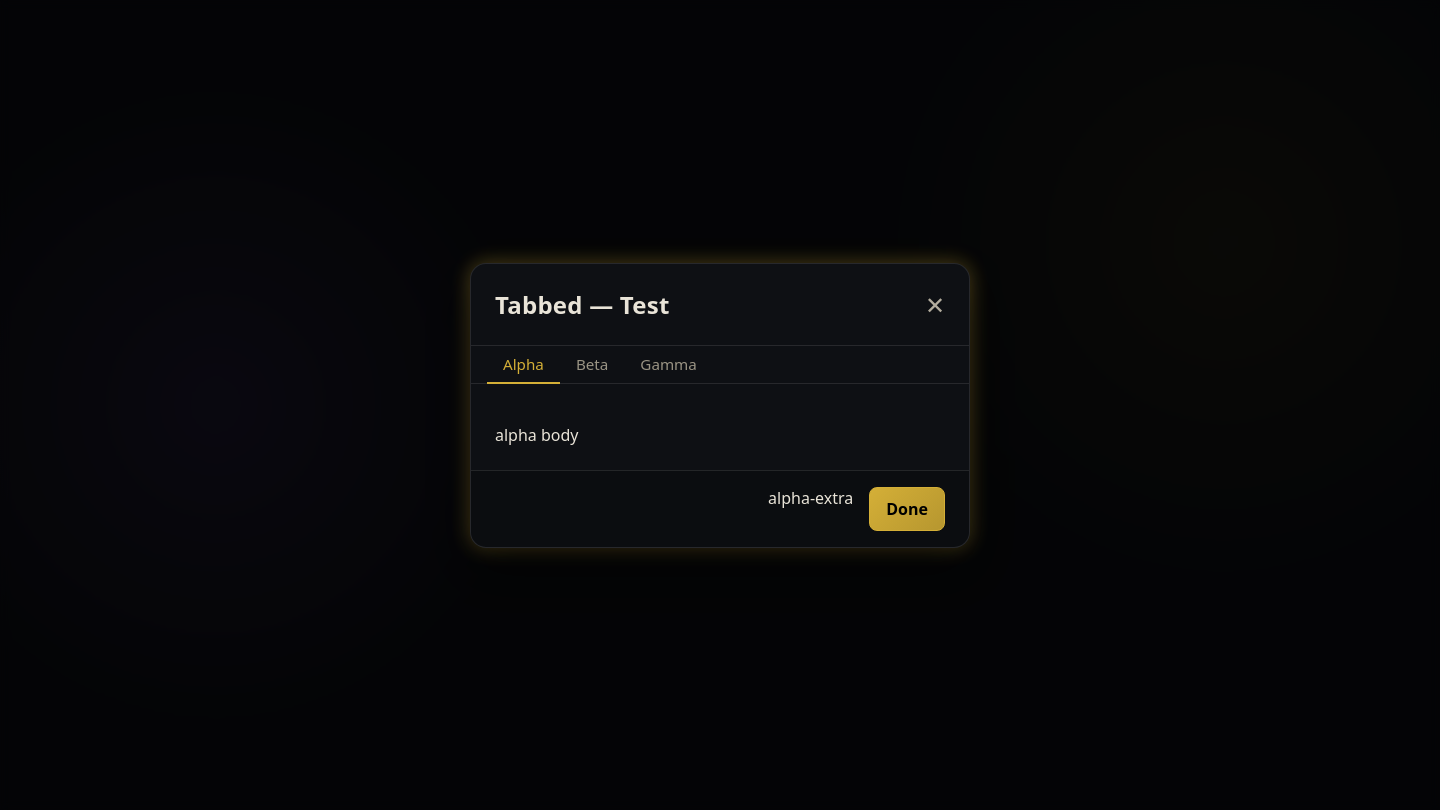
TabbedEditorShell › switching tabs mounts only the clicked tab
The image size is (1440, 810).
Click the button "Beta" at (592, 364), box [560,346,624,384]
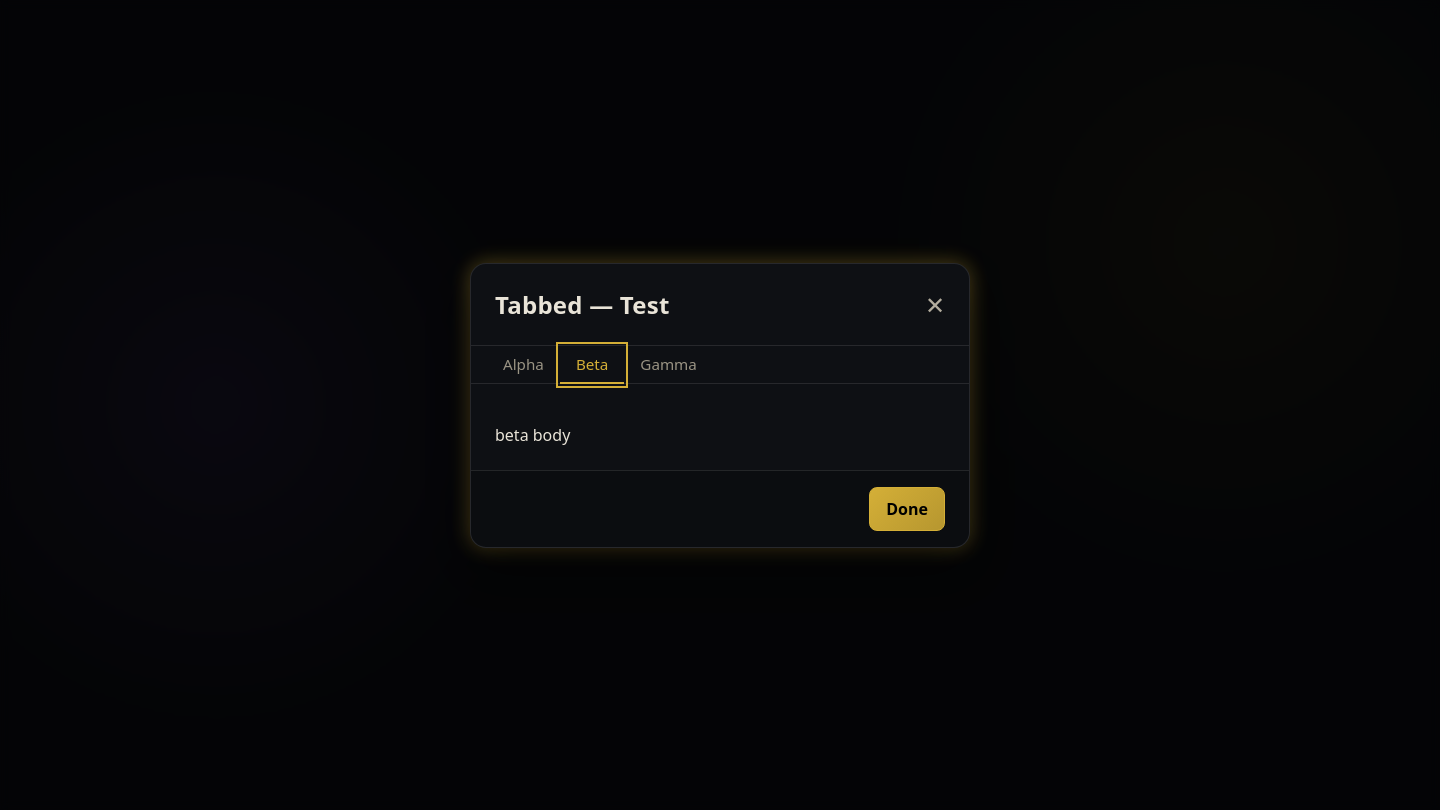
Check: the text "beta body" is shown, box [495,424,570,446]
Check: the text "alpha body" is gone
